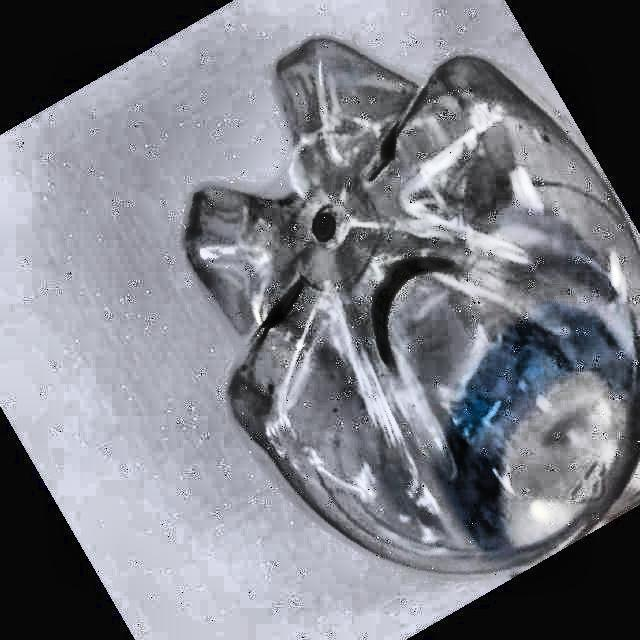plastic: (184, 39, 640, 572)
